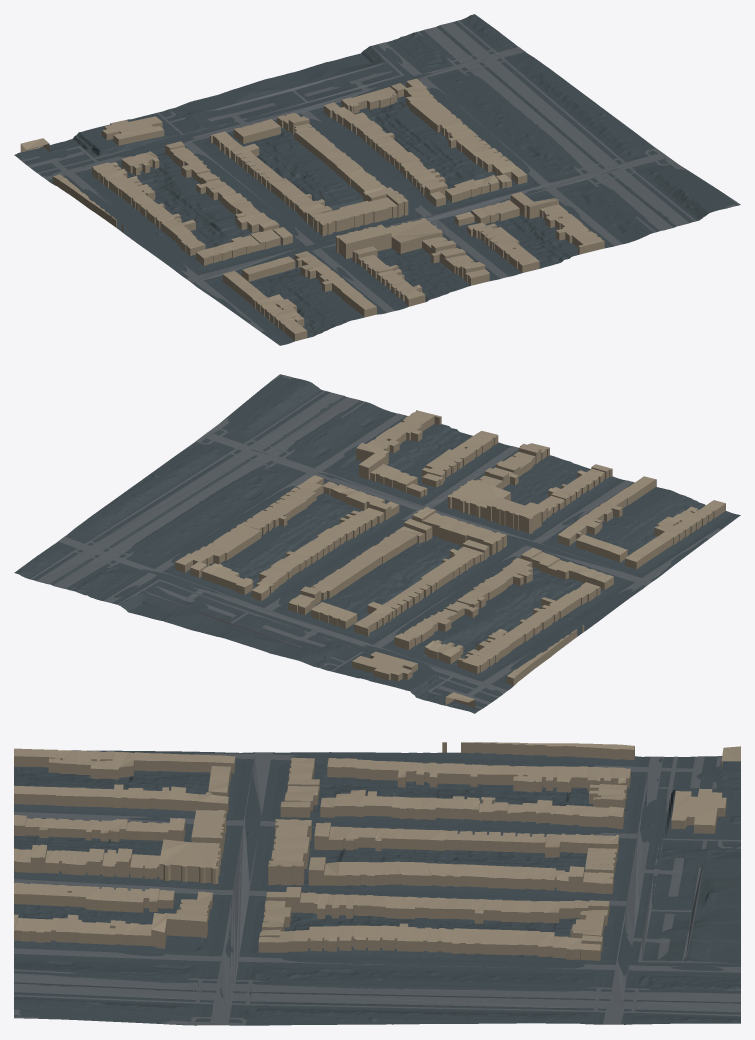
File: epsg26910-1417-10881.lod0.glb
The picture shows the model from 3 angles, top to bottom: view 1: azimuth 30°, elevation 25°; view 2: azimuth 150°, elevation 25°; view 3: azimuth 270°, elevation 25°; orthographic projection. The views are drawn at different scales.
Parts seen in each view (by area): view 1: epsg26910-1417-10881-lod0; view 2: epsg26910-1417-10881-lod0; view 3: epsg26910-1417-10881-lod0.
Boxes of the visible parts, x1,y1,x2,y2 form: epsg26910-1417-10881-lod0: [14, 14, 740, 345]; epsg26910-1417-10881-lod0: [14, 374, 740, 713]; epsg26910-1417-10881-lod0: [14, 742, 740, 1025].
Size of the model in its own units: 384 by 27.22 by 384.
